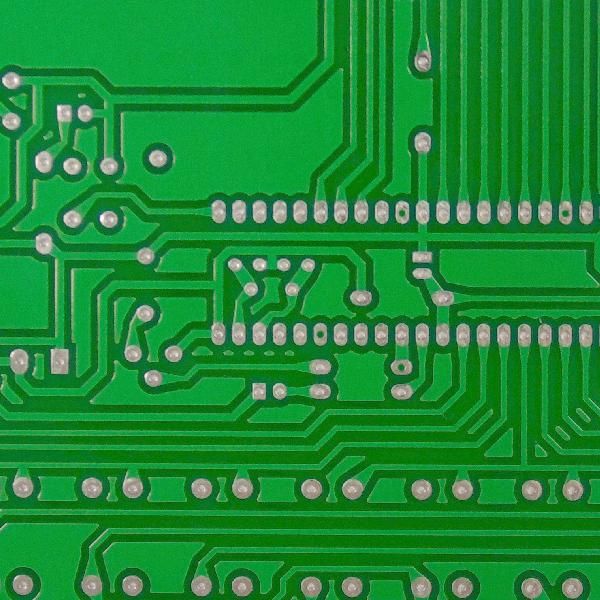missing_hole: (556, 200, 576, 225), (311, 325, 329, 345), (392, 359, 411, 377), (394, 203, 411, 223)
